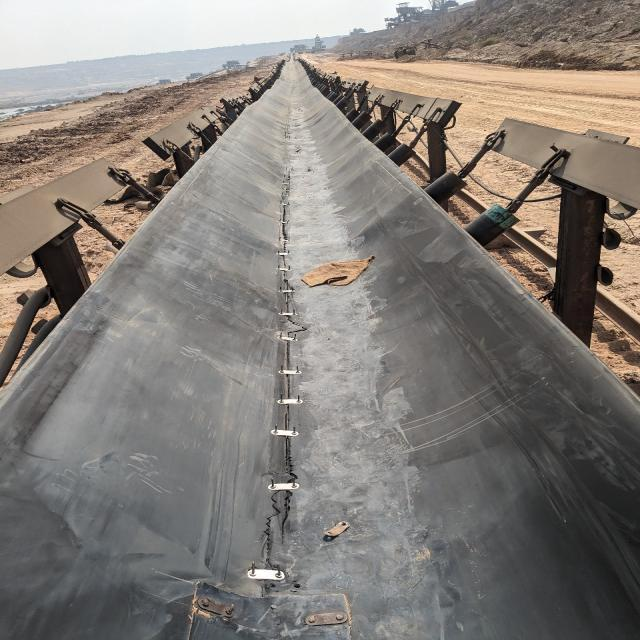Tear: (278, 172, 316, 546), (254, 484, 285, 570)
